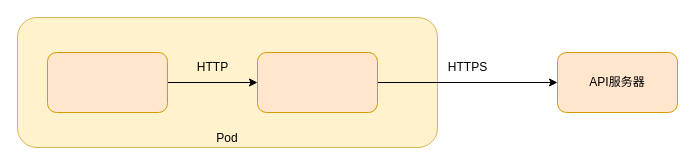
Image size: 695x165. Some labels were removed from this diagram. Here are the shapes that lost their labels. From the top down, the centre of each, then its label:
the point at 107,82: 应用容器
the point at 317,82: ambassador容器
